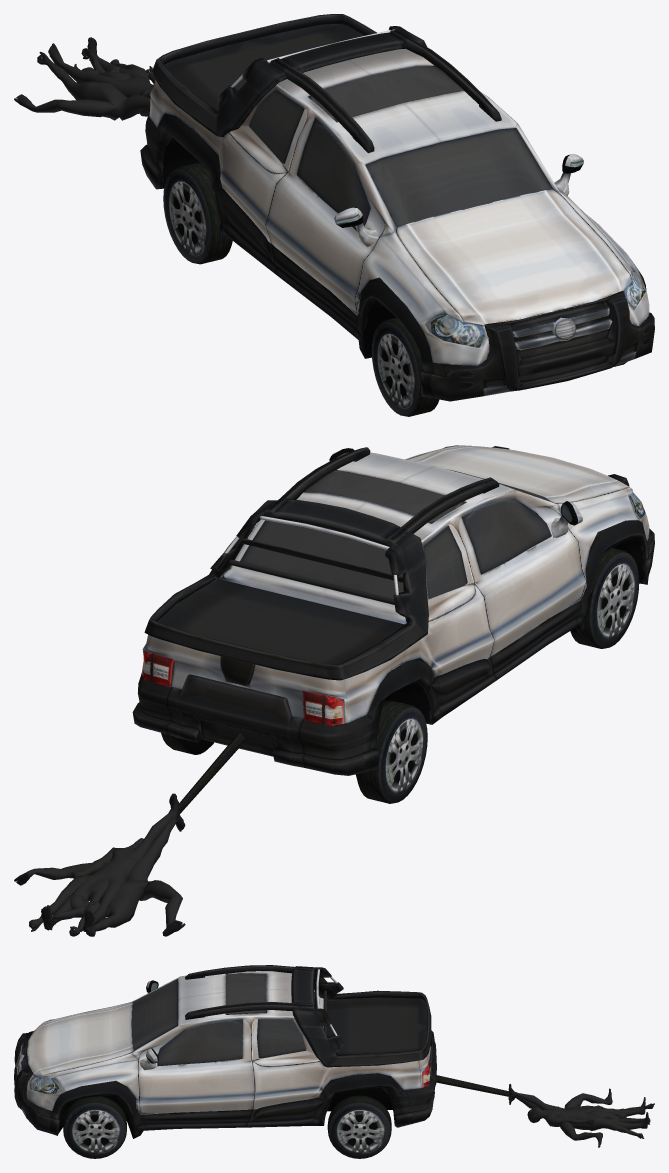
Rendered from truck_arab1.dae.
3 renders of one model, top to bottom at view 1: azimuth 30°, elevation 25°; view 2: azimuth 150°, elevation 25°; view 3: azimuth 270°, elevation 25°, orthographic. The views are drawn at different scales.
Parts seen in each view (by area): view 1: body, Glass, wheel4, wheel2, TowGuys03, TowGuys02; view 2: body, Glass, wheel4, wheel2, TowGuys03, TowGuys01, TowGuys02, DeadGuyTurningPoint; view 3: body, Glass, wheel3, wheel1, TowGuys02, TowGuys01, TowGuys03, DeadGuyTurningPoint.
Part boxes in pixels (x1,y1,x2,y2): body: (140, 14, 654, 401); Glass: (249, 65, 553, 231); wheel4: (163, 162, 232, 264); wheel2: (371, 317, 439, 416); TowGuys03: (14, 48, 150, 120); TowGuys02: (48, 37, 155, 116); body: (132, 445, 654, 775); Glass: (240, 452, 572, 598); wheel4: (355, 700, 427, 803); wheel2: (570, 548, 639, 648); TowGuys03: (46, 793, 185, 936); TowGuys01: (14, 808, 185, 936); TowGuys02: (41, 819, 178, 931); DeadGuyTurningPoint: (176, 733, 246, 817); body: (14, 965, 436, 1138); Glass: (131, 973, 314, 1066); wheel3: (327, 1095, 391, 1158); wheel1: (63, 1096, 126, 1158); TowGuys02: (508, 1096, 648, 1129); TowGuys01: (509, 1091, 644, 1147); TowGuys03: (508, 1084, 654, 1124); DeadGuyTurningPoint: (436, 1075, 515, 1097).
Bounding box in the file's own units: 1078 × 936 × 3771.
